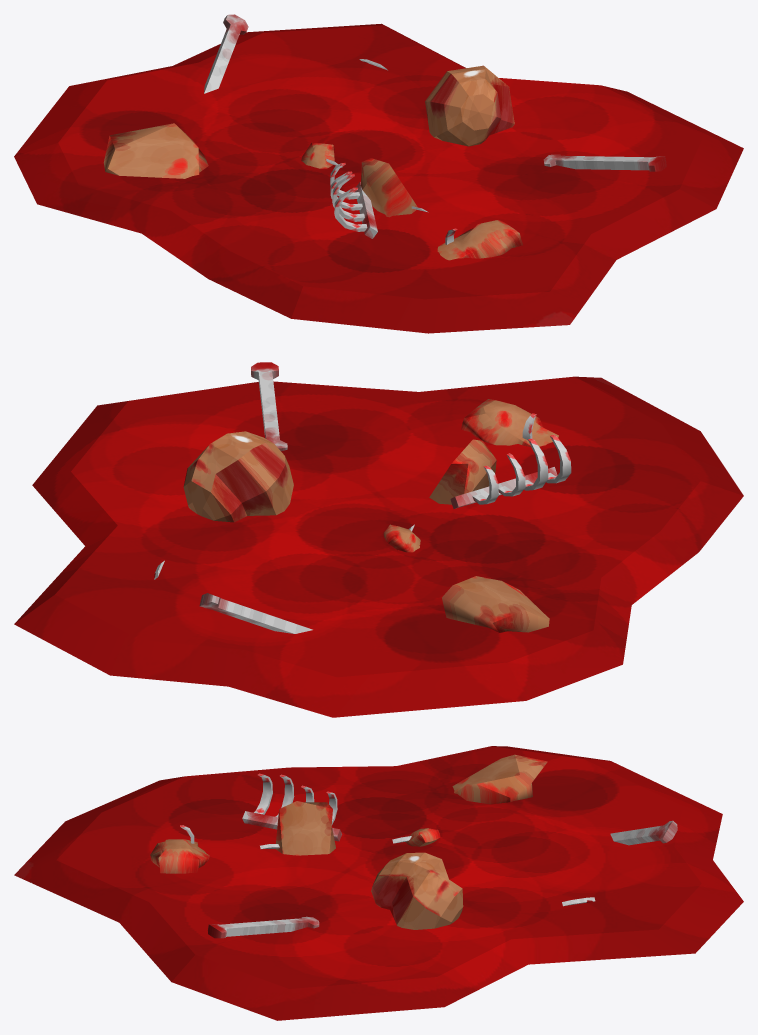
File: GorePile_1.fbx
3 views of the same model, one above another, from view 1: azimuth 30°, elevation 25°; view 2: azimuth 150°, elevation 25°; view 3: azimuth 270°, elevation 25° (orthographic). The views are drawn at different scales.
Parts seen in each view (by area): view 1: polySurface1; view 2: polySurface1; view 3: polySurface1.
Part boxes in pixels (left/top/right/bottom): polySurface1: left=14, top=14, right=743, bottom=333; polySurface1: left=14, top=362, right=743, bottom=717; polySurface1: left=14, top=746, right=743, bottom=1020.
Size of the model in its own units: 3.31 by 0.5877 by 3.72.
